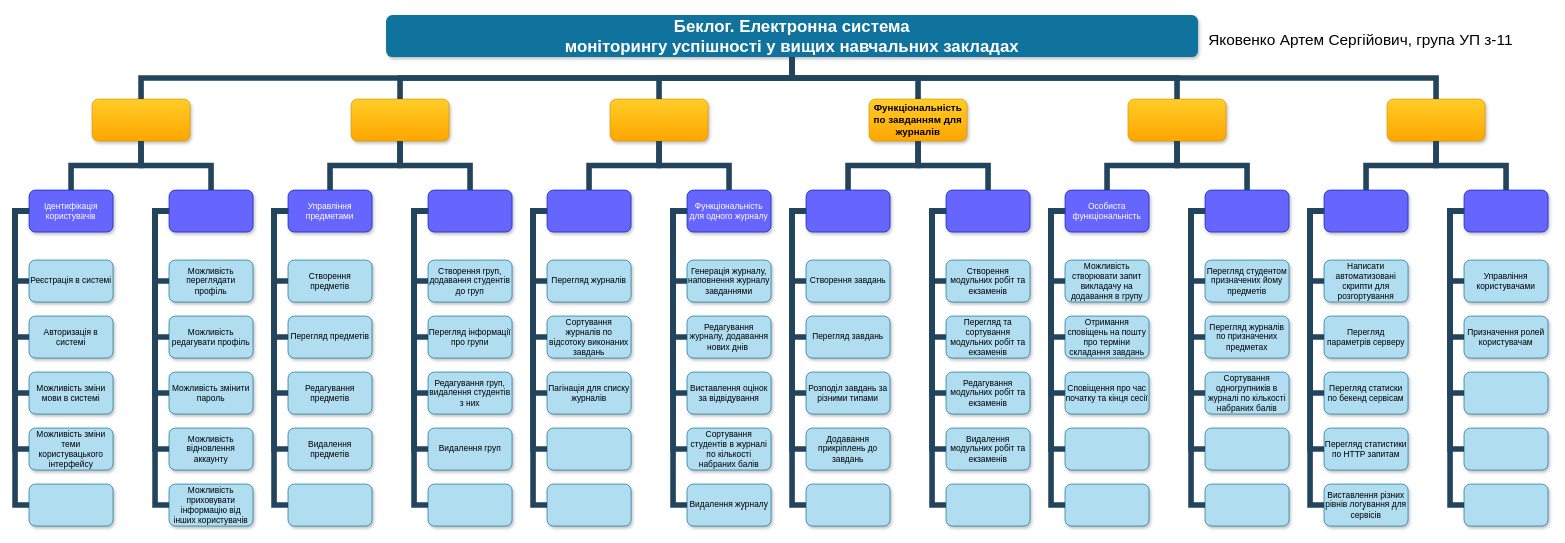
This 1565x543 diagram has some shape labels left out. The centre of each missing label's shape, as x and y in pixels:
"Адміністративна функціональність" belongs at point (1436, 121).
"Загальна функціональність" belongs at point (141, 121).
"Загальна функціональність для студента" belongs at point (1177, 121).
"Модульні контрольні роботи та екзамени" belongs at point (988, 212).
"Моніторинг стану системи" belongs at point (1366, 212).
"Налаштування системи" belongs at point (1506, 212).
"Практичні, лабораторні роботи, тести" belongs at point (848, 212).
"Призначені предмети та журнали" belongs at point (1247, 212).
"Управління аккаунтом" belongs at point (211, 212).
"Управління групами" belongs at point (470, 212).
"Управління списком журналів" belongs at point (589, 212).
"Функціональність для журналів" belongs at point (659, 121).
"Функціональність по предметам і групам" belongs at point (400, 121).
